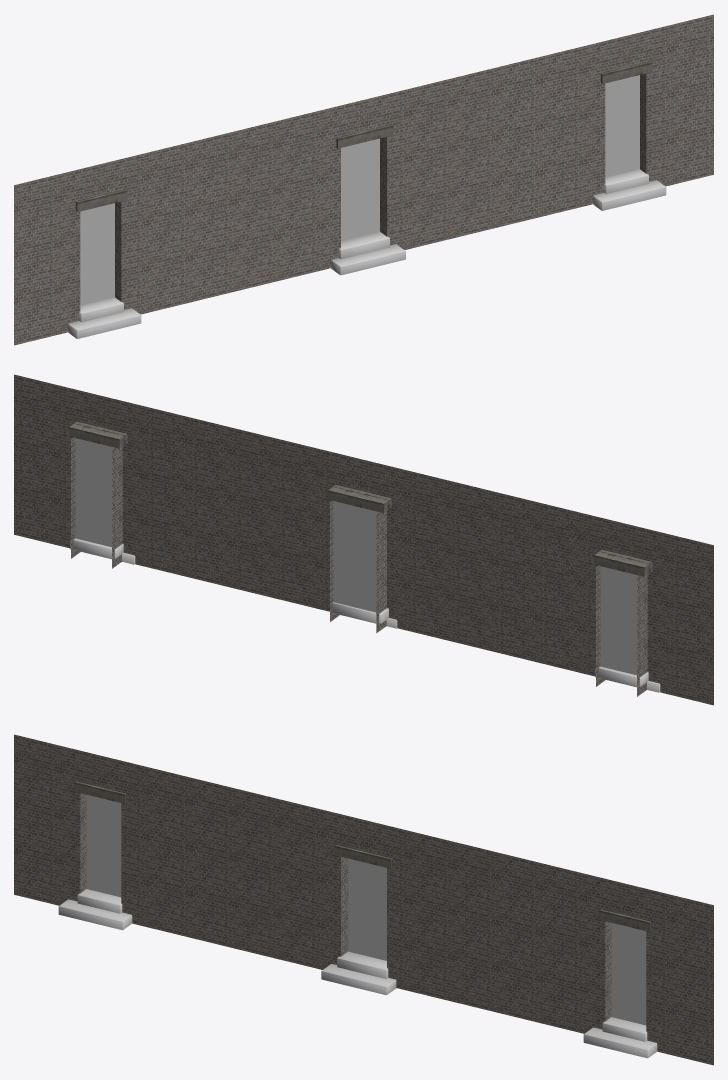
The model's file is W_DoorSet_A_16x_COL.FBX.
3 renders of one model, top to bottom at view 1: azimuth 30°, elevation 25°; view 2: azimuth 150°, elevation 25°; view 3: azimuth 330°, elevation 25°, orthographic.
Visible parts, largest first — view 1: W_DoorSet_A_16x_COL; view 2: W_DoorSet_A_16x_COL; view 3: W_DoorSet_A_16x_COL.
Part boxes in pixels (x1,y1,x2,y2): W_DoorSet_A_16x_COL: (14, 14, 713, 345); W_DoorSet_A_16x_COL: (14, 374, 713, 705); W_DoorSet_A_16x_COL: (14, 734, 713, 1065).
Size of the model in its own units: 1600 by 351 by 80.95.
